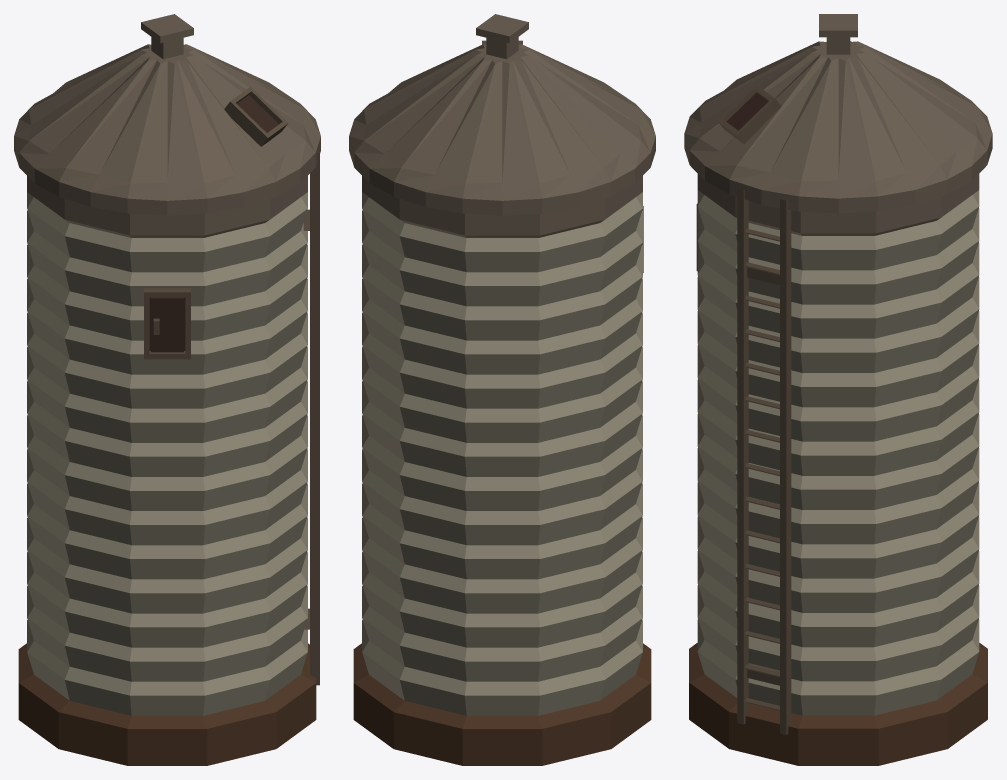
File: silo.glb
The picture shows the model from 3 angles, left to right: view 1: azimuth 30°, elevation 25°; view 2: azimuth 150°, elevation 25°; view 3: azimuth 270°, elevation 25°; orthographic projection.
Visible parts, largest first — view 1: silo; view 2: silo; view 3: silo.
Part boxes in pixels (bbox=[...]): silo: bbox=[14, 14, 320, 765]; silo: bbox=[349, 14, 655, 765]; silo: bbox=[684, 14, 992, 765].
Bounding box in the file's own units: 3 × 7.31 × 3.
